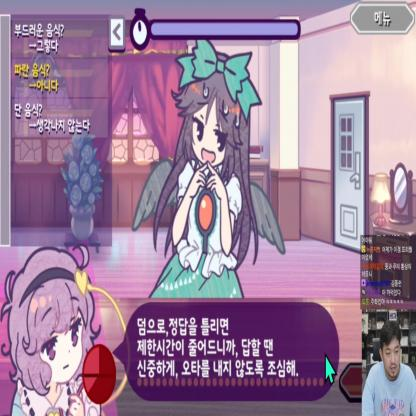streamer: (361, 319, 416, 416)
